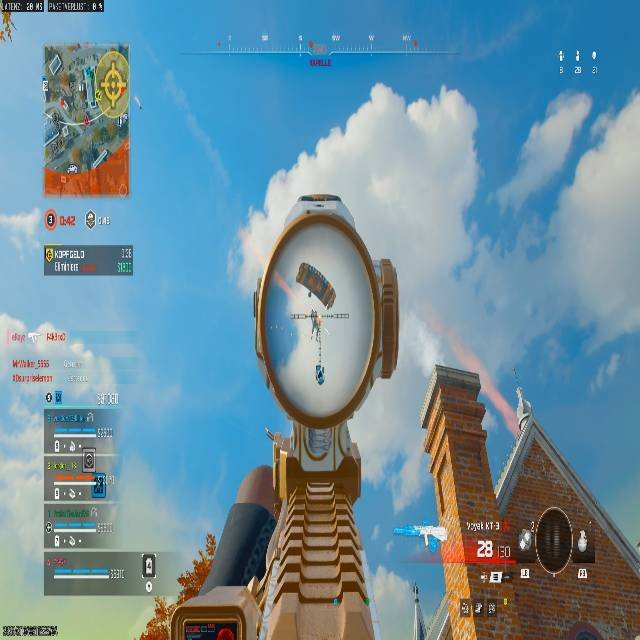head: (234, 78, 485, 425)
player: (314, 362, 324, 384)
